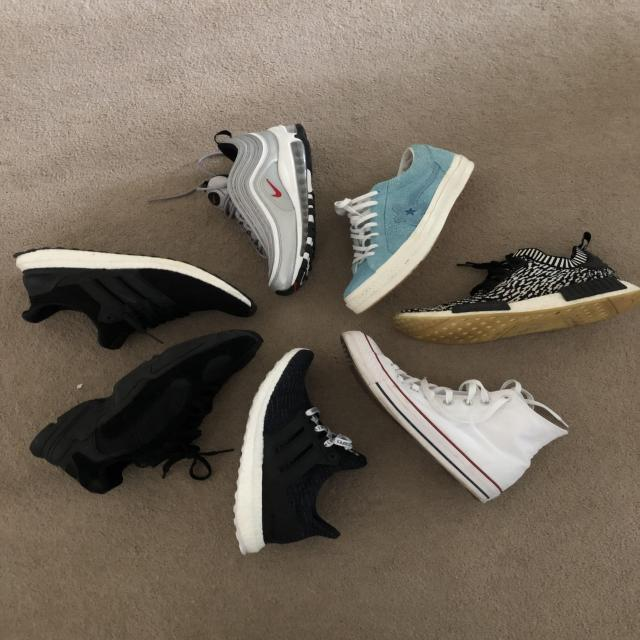shoe: (320, 319, 608, 521), (20, 308, 256, 519), (350, 225, 640, 359), (225, 333, 354, 624), (1, 222, 286, 346), (333, 97, 487, 324), (168, 94, 326, 298)
